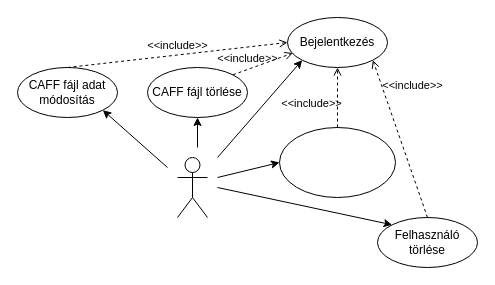
This 495x285 diagram has some shape labels left out. The box of each missing label's shape, as (x1, y1, x2, y2) in pixels:
Adminisztrátor: (176, 156, 208, 218)
Felhasználói adatok módosítása: (278, 126, 396, 198)
